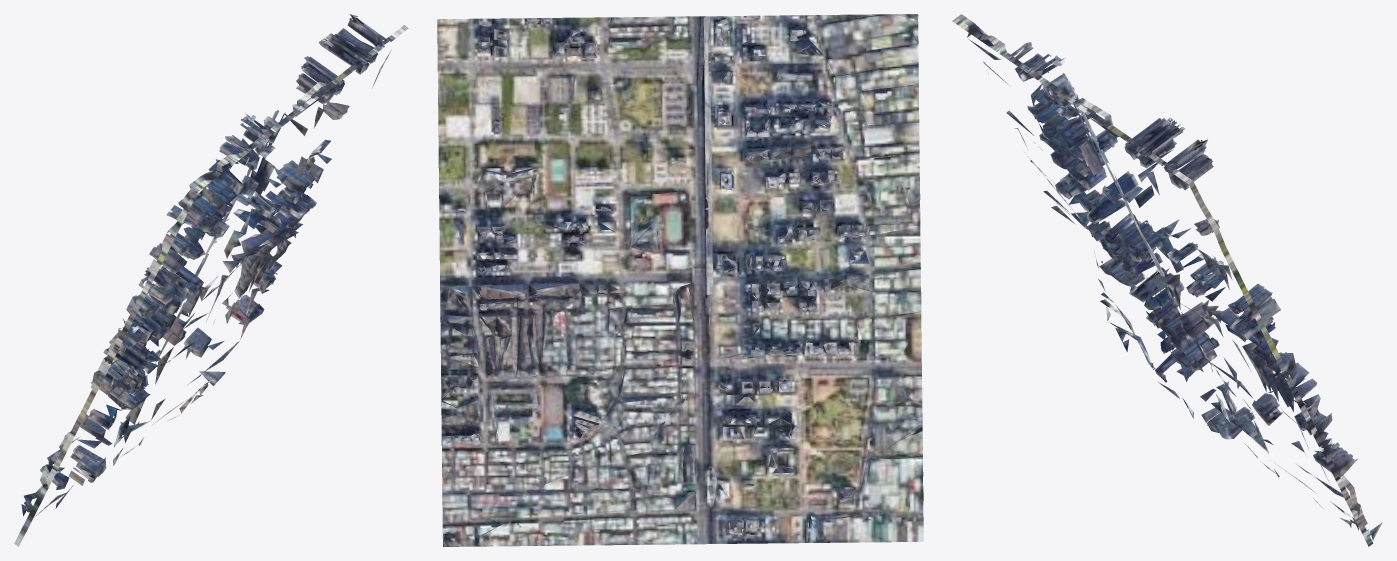
3 views of the same model, side by side, from view 1: azimuth 30°, elevation 25°; view 2: azimuth 150°, elevation 25°; view 3: azimuth 270°, elevation 25° (orthographic). The views are drawn at different scales.
Size of the model in its own units: 1222 by 1157 by 1054.
Materials: 2 (2 with a texture image).
